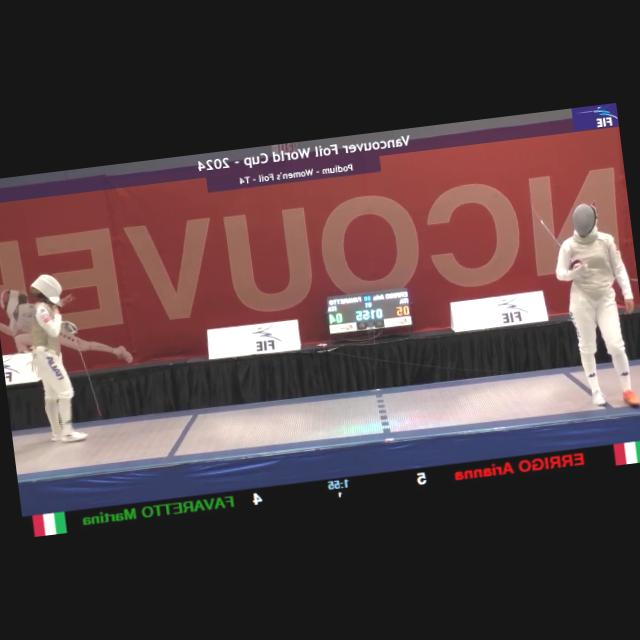blade: (526, 192, 580, 274), (65, 323, 102, 419)
